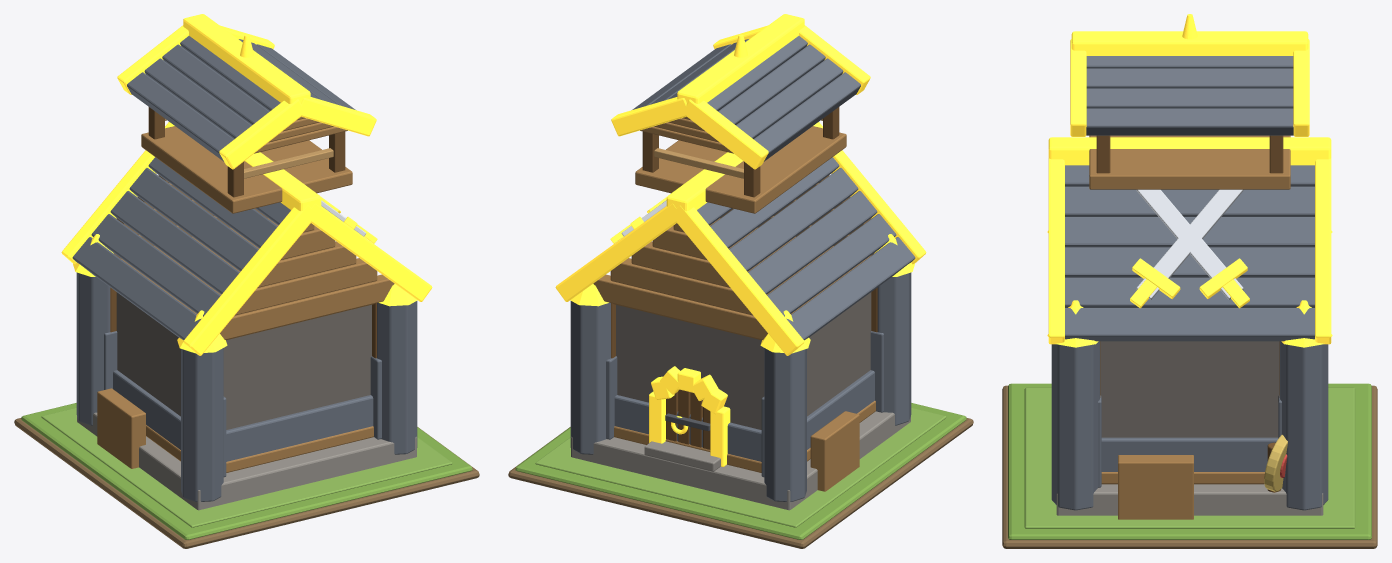
File: barracks_lv8.glb
The picture shows the model from 3 angles, left to right: view 1: azimuth 30°, elevation 25°; view 2: azimuth 150°, elevation 25°; view 3: azimuth 270°, elevation 25°; orthographic projection. The views are drawn at different scales.
Visible parts, largest first — view 1: PlasterCore, Foundation, Base_Inner, Base_Grass, RoofPlatform, BarracksStoneWainscot, BR_Bastion_-1_-1, BR_Bastion_1_-1, Base_Dirt, Bargeboard_-1_-1, BR_Bastion_-1_1, RoofSlope_-1_2 (+28 smaller); view 2: PlasterCore, Base_Inner, Base_Grass, RoofPlatform, Foundation, BR_Bastion_-1_1, BR_Bastion_1_1, Base_Dirt, BR_Bastion_-1_-1, Bargeboard_1_-1, BarracksStoneWainscot, RoofSlope_-1_2 (+31 smaller); view 3: PlasterCore, Base_Inner, Base_Grass, RoofSlope_1_5, RoofPlatform, BR_Bastion_1_-1, BR_Bastion_1_1, RoofSlope_1_2, RoofSlope_1_4, RoofSlope_1_3.001, RoofSlope_1_3, RoofSlope_1_1 (+22 smaller).
Boxes of the visible parts, bbox=[...] form: PlasterCore: bbox=[116, 292, 371, 429]; Foundation: bbox=[77, 412, 416, 510]; Base_Inner: bbox=[41, 407, 452, 527]; Base_Grass: bbox=[21, 403, 472, 539]; RoofPlatform: bbox=[141, 126, 352, 213]; BarracksStoneWainscot: bbox=[113, 370, 373, 461]; BR_Bastion_-1_-1: bbox=[181, 348, 223, 501]; BR_Bastion_1_-1: bbox=[377, 301, 417, 454]; Base_Dirt: bbox=[14, 418, 479, 548]; Bargeboard_-1_-1: bbox=[183, 205, 311, 355]; BR_Bastion_-1_1: bbox=[76, 272, 110, 425]; RoofSlope_-1_2: bbox=[129, 168, 258, 271]; PlasterCore: bbox=[616, 292, 871, 429]; Base_Inner: bbox=[535, 407, 946, 527]; Base_Grass: bbox=[515, 403, 966, 539]; RoofPlatform: bbox=[635, 126, 846, 213]; Foundation: bbox=[571, 411, 910, 510]; BR_Bastion_-1_1: bbox=[764, 348, 806, 501]; BR_Bastion_1_1: bbox=[570, 301, 610, 454]; Base_Dirt: bbox=[508, 418, 973, 548]; BR_Bastion_-1_-1: bbox=[877, 272, 911, 425]; Bargeboard_1_-1: bbox=[675, 205, 804, 355]; BarracksStoneWainscot: bbox=[614, 370, 874, 461]; RoofSlope_-1_2: bbox=[729, 168, 858, 271]; PlasterCore: bbox=[1100, 341, 1279, 437]; Base_Inner: bbox=[1024, 387, 1355, 528]; Base_Grass: bbox=[1008, 383, 1371, 539]; RoofSlope_1_5: bbox=[1065, 308, 1314, 341]; RoofPlatform: bbox=[1089, 135, 1290, 189]; BR_Bastion_1_-1: bbox=[1051, 341, 1099, 510]; BR_Bastion_1_1: bbox=[1280, 341, 1328, 510]; RoofSlope_1_2: bbox=[1065, 217, 1314, 247]; RoofSlope_1_4: bbox=[1065, 277, 1314, 307]; RoofSlope_1_3.001: bbox=[1086, 108, 1293, 135]; RoofSlope_1_3: bbox=[1065, 247, 1314, 277]; RoofSlope_1_1: bbox=[1065, 186, 1314, 216].
Size of the model in its own units: 2.76 by 3.7 by 2.76.
